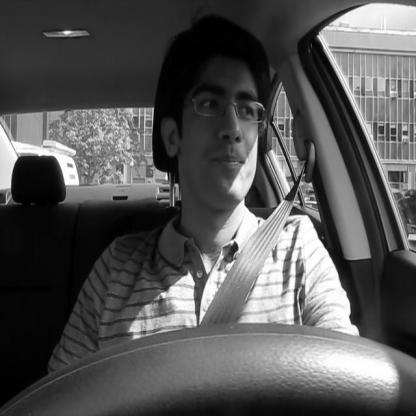seatbelt: (137, 14, 320, 324)
